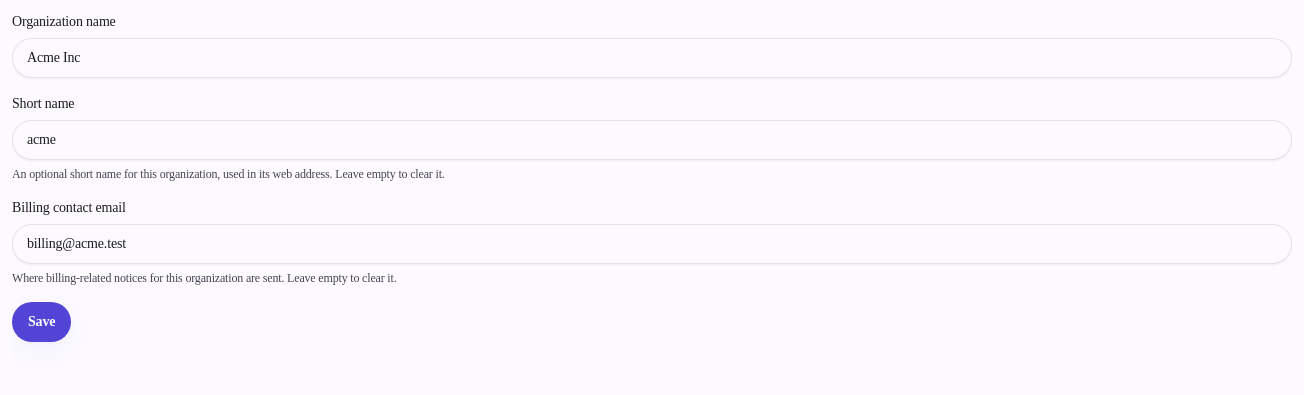
Test: OrganizationSettingsForm › shows an inline error and does not refresh when the request fails
Click the button "Save".
click(42, 322)  # box [12,302,71,342]
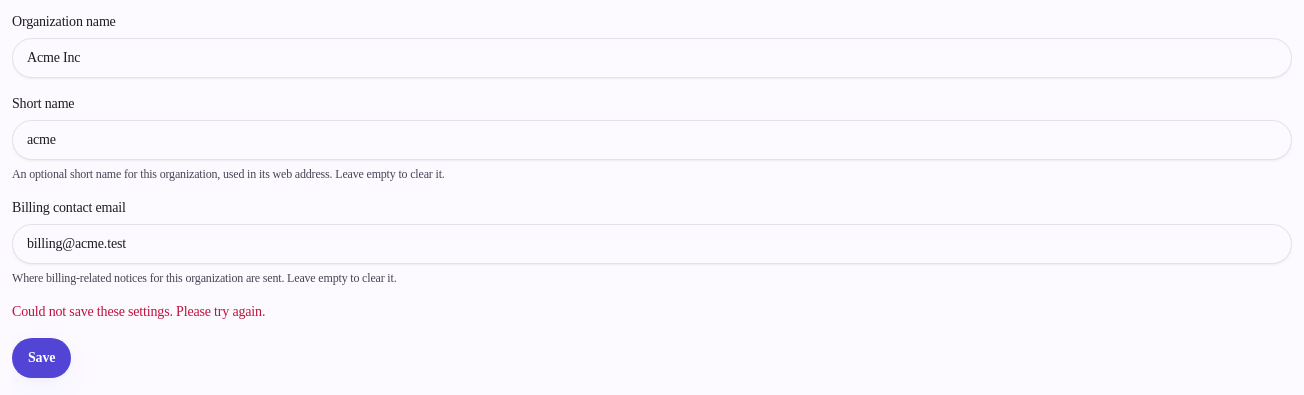
Expected: the message reads "Could not save these settings. Please try again.", [12,304,265,319]
